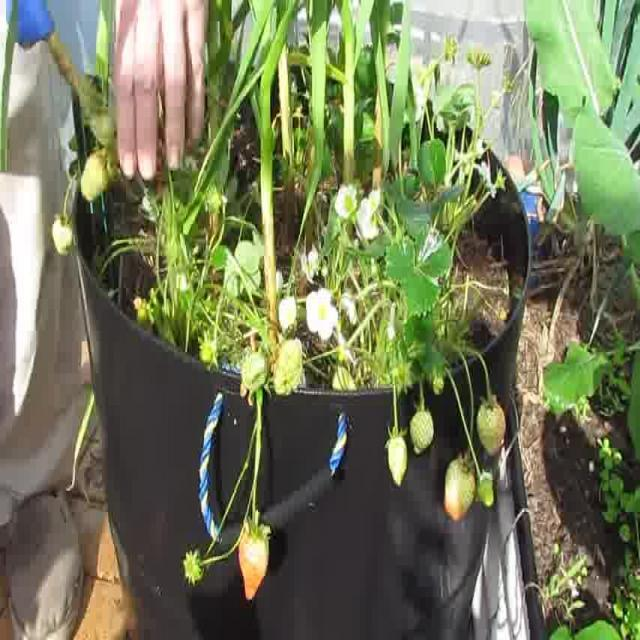Fruta sana: (238, 509, 272, 602), (478, 394, 506, 456), (80, 149, 108, 202), (272, 340, 300, 392), (242, 352, 268, 389), (331, 366, 357, 393), (192, 552, 210, 590), (477, 470, 493, 508), (183, 550, 200, 584), (136, 298, 154, 325), (432, 372, 444, 396), (68, 133, 80, 152), (68, 160, 80, 177)
Moho gris: (444, 448, 475, 524), (384, 426, 408, 488), (409, 404, 436, 456)
Oído: (52, 213, 72, 254)
